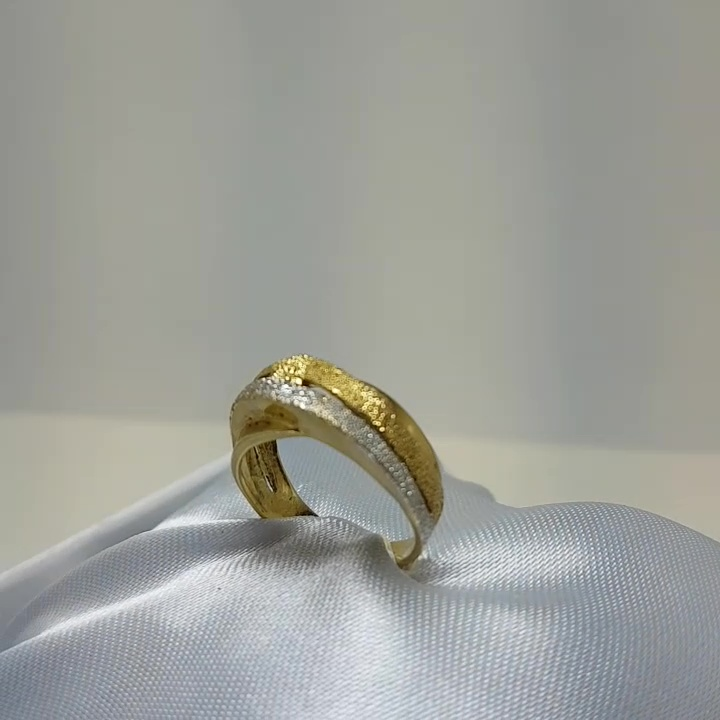Ring 5: (207, 348, 456, 577)
